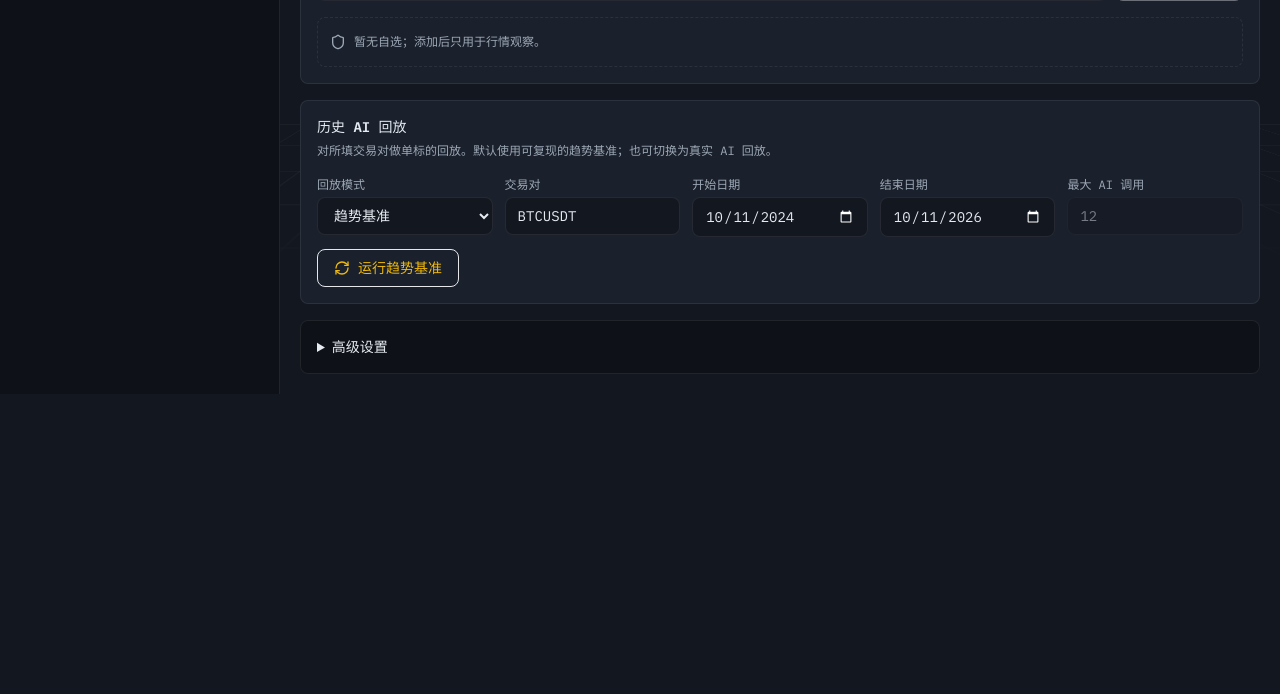
Test: StrategyStudioPage initial data policy › shows modified preset parameters as custom and labels the leverage cap
The width and height of the screenshot is (1280, 694).
(page scrolled)
Click the heading "高级设置" at (360, 347), box [332,338,388,356]
(page scrolled)
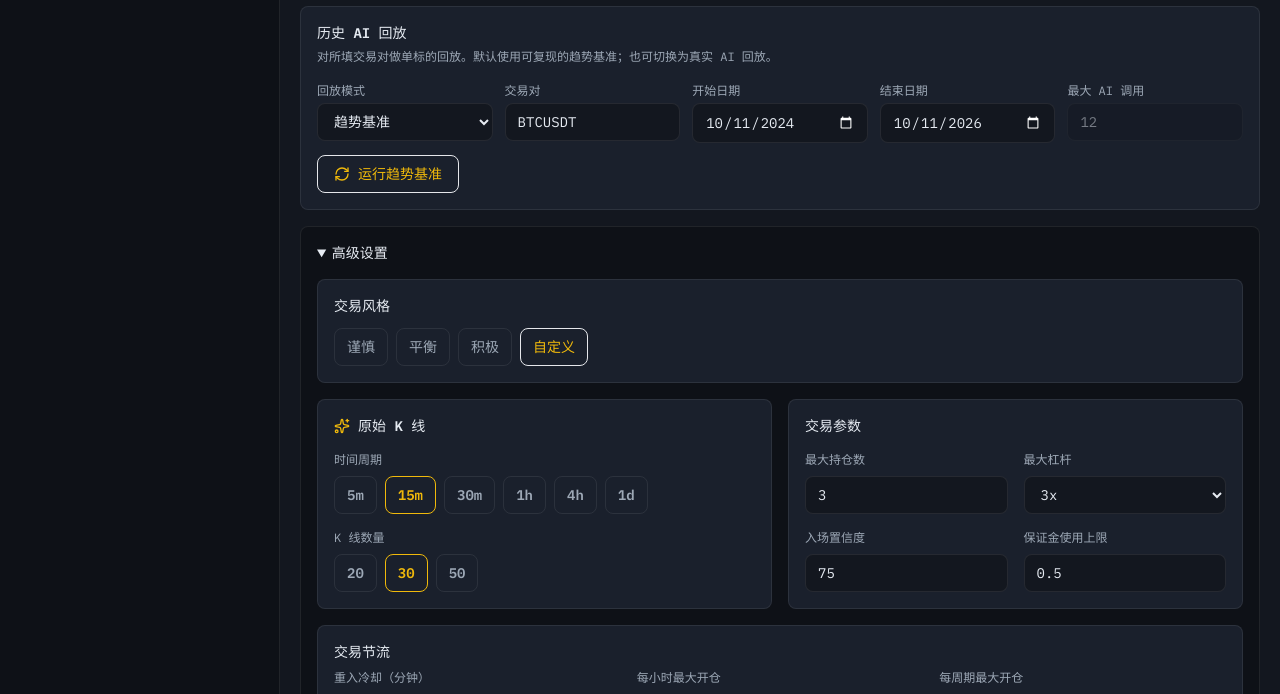
Now the text "自定义" is shown, box [520,328,588,366]
Now the text "最大杠杆" is shown, box [1024,452,1072,467]
Now the text "原始 K 线" is shown, box [334,417,425,435]
Click the button "平衡" at (423, 347), box [396,328,450,366]
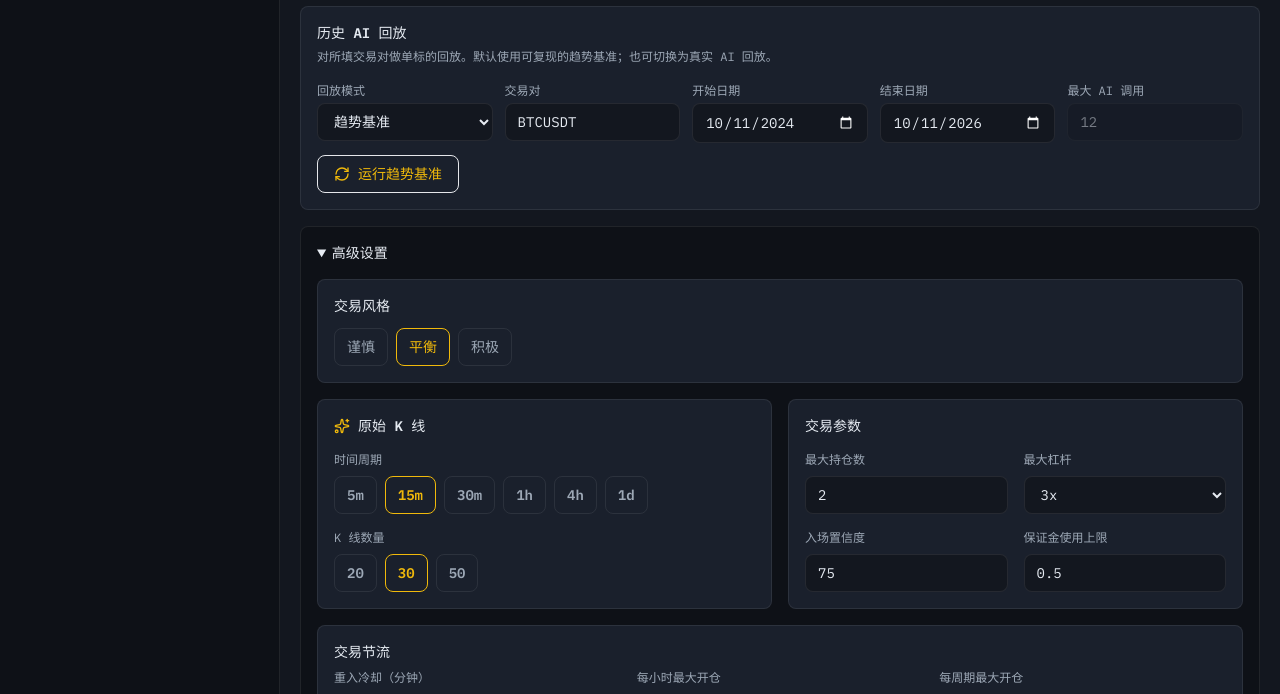
Now the text "自定义" is gone
